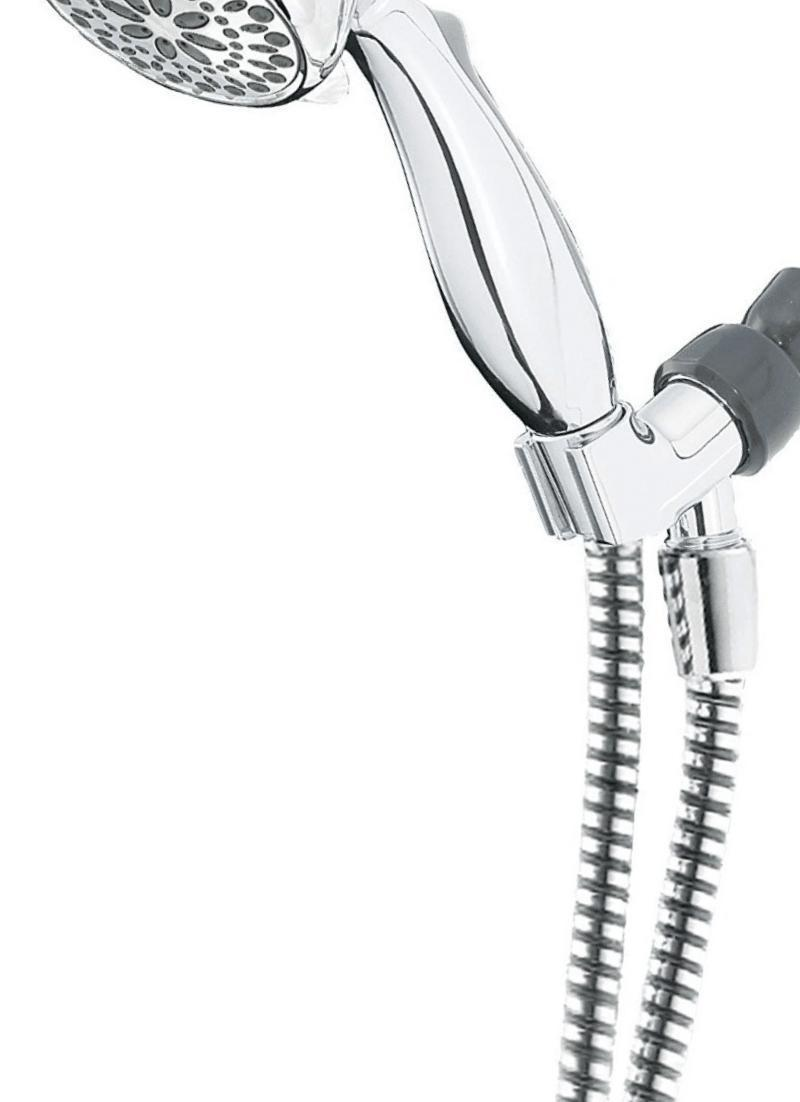Ducha: (62, 0, 799, 1101)
